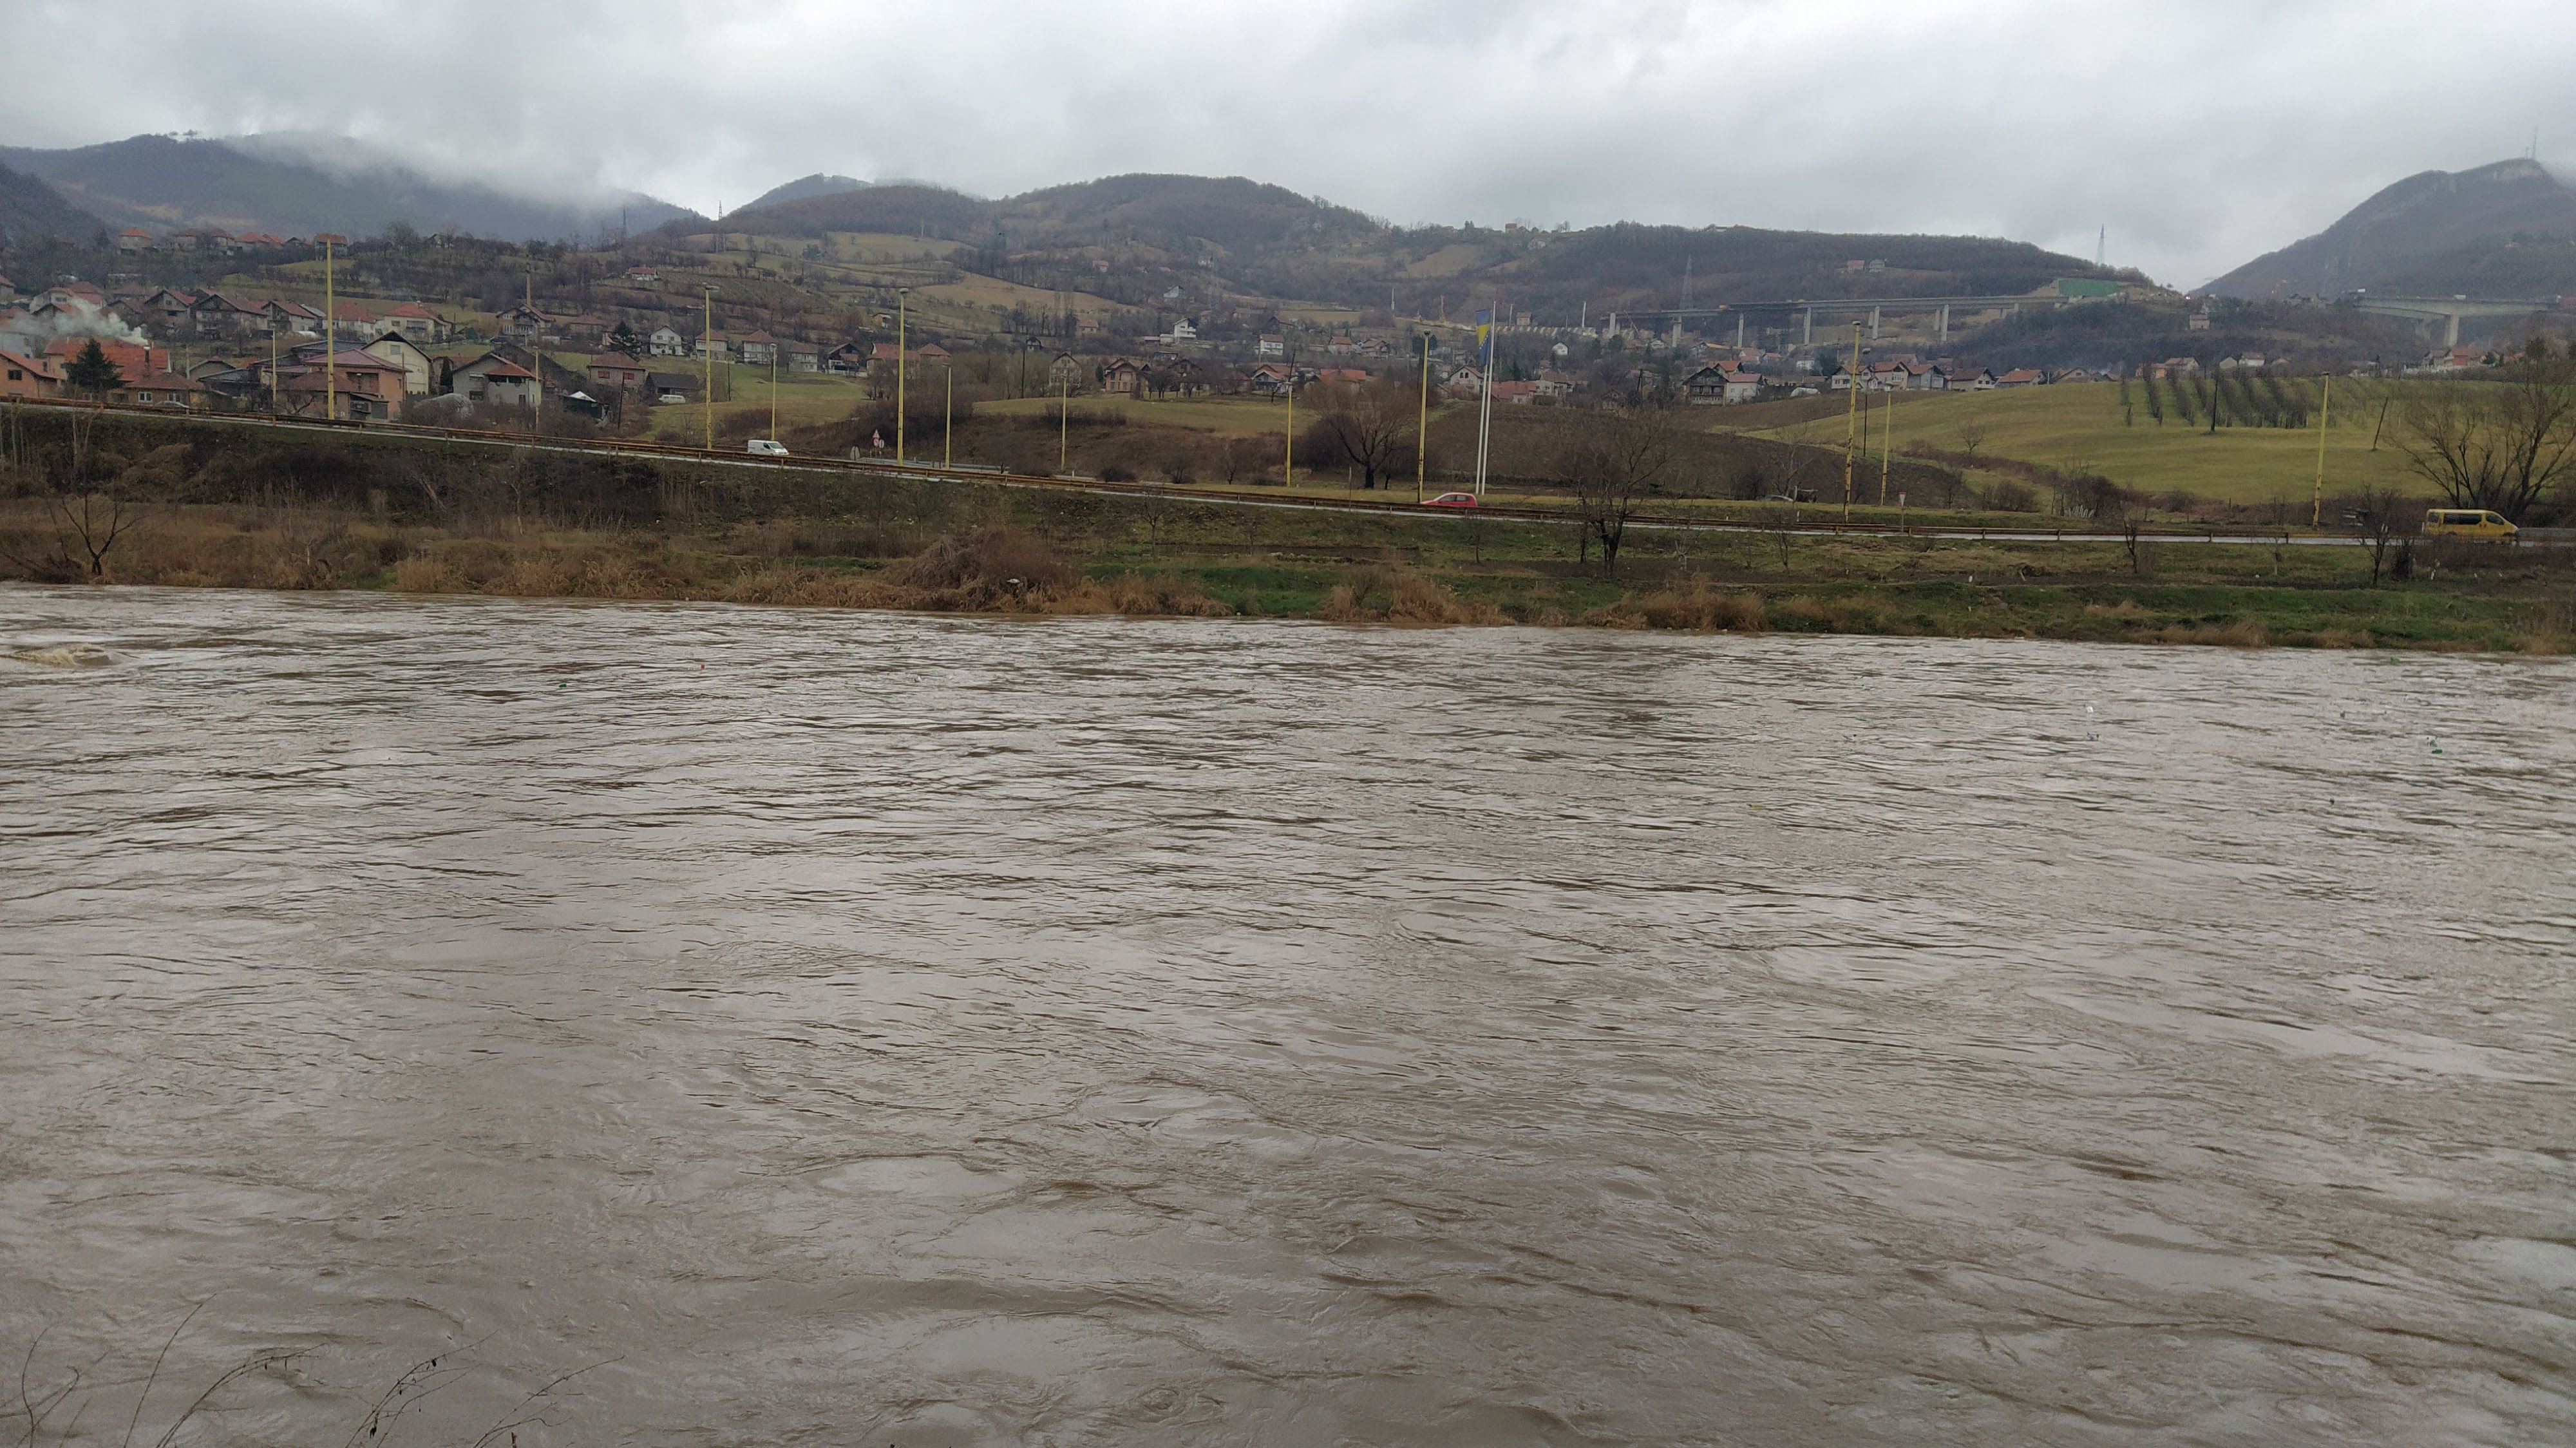Plastic Bottle: (1750, 802, 1764, 809), (2431, 747, 2443, 754), (2013, 635, 2026, 641), (2088, 705, 2093, 713), (2330, 797, 2335, 804), (559, 682, 564, 687), (2392, 657, 2396, 662), (701, 664, 704, 667)
